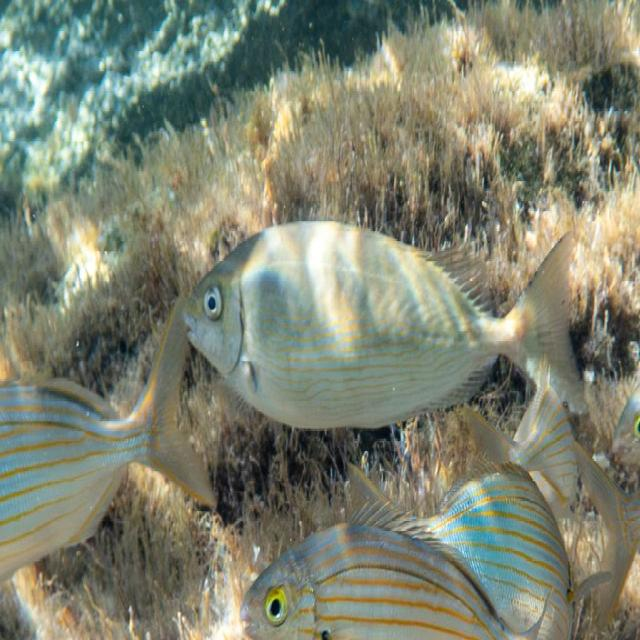Sokar Baligi: (174, 182, 600, 425)
